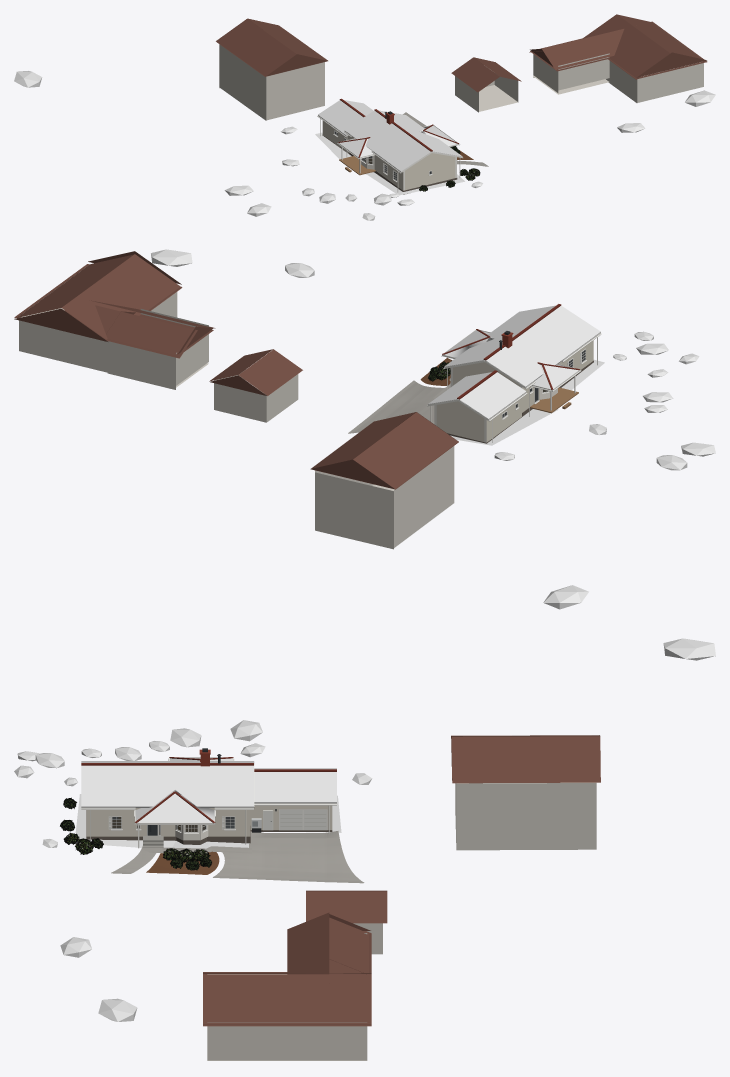
File: house.glb
The picture shows the model from 3 angles, top to bottom: view 1: azimuth 30°, elevation 25°; view 2: azimuth 150°, elevation 25°; view 3: azimuth 270°, elevation 25°; orthographic projection. The views are drawn at different scales.
Visible parts, largest first — view 1: Naapurirakennukset, Katto, Talo - runko, Kalliopaljastumat, Salaojasora; view 2: Naapurirakennukset, Katto, Kalliopaljastumat, Talo - runko, Ajotie, Salaojasora; view 3: Naapurirakennukset, Katto, Ajotie, Kalliopaljastumat, Talo - runko, Talo - ikkunat ja ovet, Pensaat, Salaojasora, Istutusalue.
Boxes of the visible parts, box(x1,y1,x2,y2) form: Naapurirakennukset: box(216, 14, 707, 120); Katto: box(317, 98, 462, 192); Talo - runko: box(322, 121, 457, 194); Kalliopaljastumat: box(14, 71, 715, 220); Salaojasora: box(315, 132, 464, 195); Naapurirakennukset: box(14, 251, 458, 549); Katto: box(427, 304, 601, 442); Kalliopaljastumat: box(151, 249, 715, 609); Talo - runko: box(434, 340, 593, 443); Ajotie: box(348, 380, 444, 433); Salaojasora: box(451, 359, 604, 445); Naapurirakennukset: box(203, 735, 600, 1060); Katto: box(81, 748, 336, 844); Ajotie: box(213, 831, 364, 883); Kalliopaljastumat: box(14, 638, 715, 1021); Talo - runko: box(86, 805, 332, 848); Talo - ikkunat ja ovet: box(108, 809, 327, 836); Pensaat: box(60, 797, 211, 870); Salaojasora: box(75, 794, 341, 848); Istutusalue: box(146, 851, 219, 874).
Bounding box in the file's own units: 90.16 × 10.47 × 67.52.
Materials: 36 (3 with a texture image).
